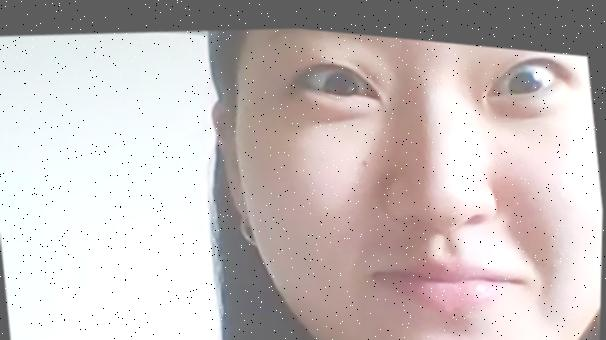eye: (509, 58, 545, 92), (322, 68, 359, 100)
iris: (303, 50, 381, 103), (481, 40, 562, 87)
